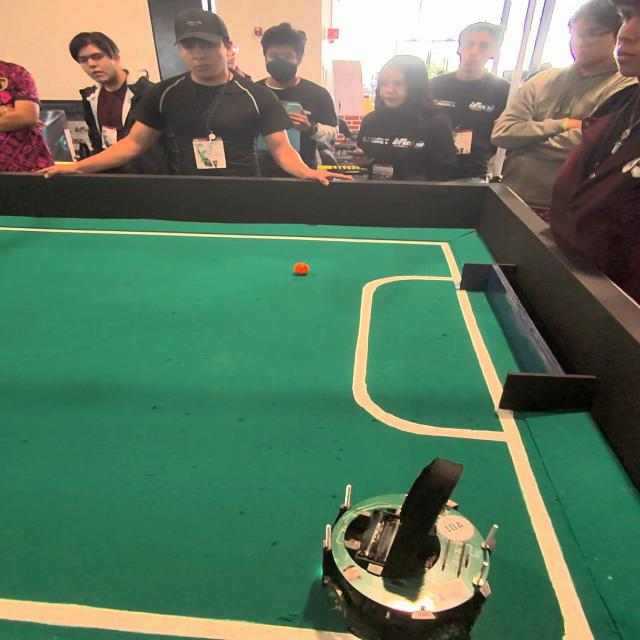Robot: (302, 449, 511, 640)
pelota: (285, 260, 316, 284)
